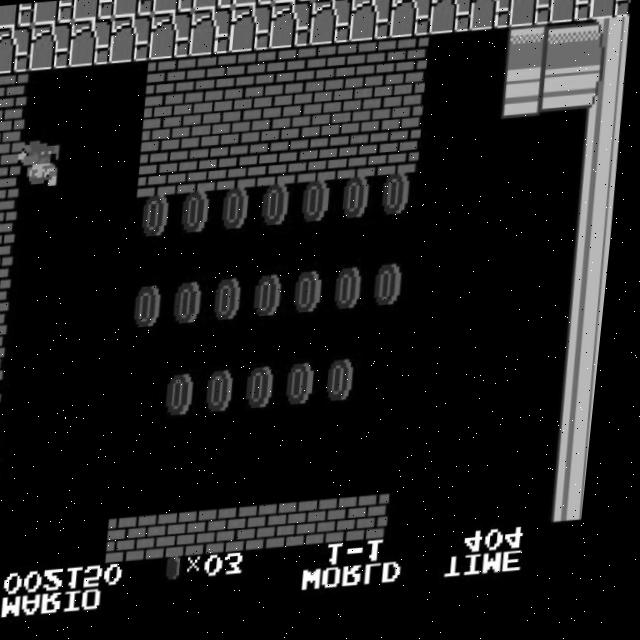1- brick_block: (143, 104, 189, 154), (156, 512, 202, 562), (185, 56, 231, 106), (196, 509, 242, 559), (223, 98, 269, 148), (263, 95, 309, 145), (276, 503, 322, 553), (303, 92, 349, 142), (316, 500, 362, 550), (343, 89, 389, 139), (356, 497, 402, 547), (383, 86, 429, 136), (116, 516, 162, 565), (145, 59, 191, 108), (183, 102, 229, 151), (236, 507, 282, 556), (346, 44, 392, 93), (386, 41, 432, 90), (139, 151, 185, 199), (340, 136, 386, 184), (380, 133, 426, 181), (180, 148, 225, 197), (226, 53, 271, 102), (266, 50, 311, 99), (306, 47, 351, 96), (220, 145, 265, 193), (260, 142, 305, 190), (300, 139, 345, 187), (0, 72, 30, 121), (0, 118, 27, 166), (0, 164, 24, 212), (0, 208, 22, 257), (0, 254, 19, 303), (0, 300, 15, 348), (0, 345, 13, 394), (0, 391, 10, 440), (0, 437, 7, 485), (0, 483, 4, 531), (0, 528, 1, 577)
11- little_mario: (16, 140, 64, 192)
14- pipe: (543, 74, 589, 124), (577, 163, 623, 213), (585, 26, 631, 76), (546, 29, 592, 78), (583, 72, 629, 121), (574, 209, 619, 259), (570, 255, 616, 303), (580, 118, 625, 167), (565, 346, 609, 395), (568, 300, 612, 349), (558, 438, 601, 486), (562, 392, 605, 440), (556, 483, 598, 532)
15- pipe_head: (503, 77, 549, 126), (506, 32, 552, 81)
17- undestructible_block: (28, 22, 74, 72), (68, 19, 114, 69), (148, 13, 194, 63), (188, 10, 234, 60), (268, 4, 314, 54), (108, 16, 154, 65), (228, 7, 274, 56), (308, 1, 354, 50), (348, 0, 394, 47), (388, 0, 434, 45), (429, 0, 474, 41), (469, 0, 514, 38), (0, 26, 34, 75), (509, 0, 555, 35), (549, 0, 595, 32), (588, 0, 634, 30), (32, 0, 75, 26), (72, 0, 115, 23), (112, 0, 155, 20), (0, 4, 34, 29), (152, 0, 195, 17), (192, 0, 235, 14), (232, 0, 275, 11), (272, 0, 315, 8), (312, 0, 355, 5), (352, 0, 395, 1)
2- coin: (131, 287, 177, 337), (211, 281, 257, 331), (251, 278, 297, 328), (331, 272, 377, 322), (371, 269, 417, 319), (137, 196, 183, 245), (171, 284, 217, 333), (177, 193, 223, 242), (217, 190, 263, 239), (245, 370, 291, 419), (257, 187, 303, 236), (291, 275, 337, 324), (297, 184, 343, 233), (325, 364, 371, 413), (337, 181, 383, 230), (377, 178, 423, 227), (165, 376, 211, 424), (205, 373, 251, 421), (285, 367, 331, 415)
